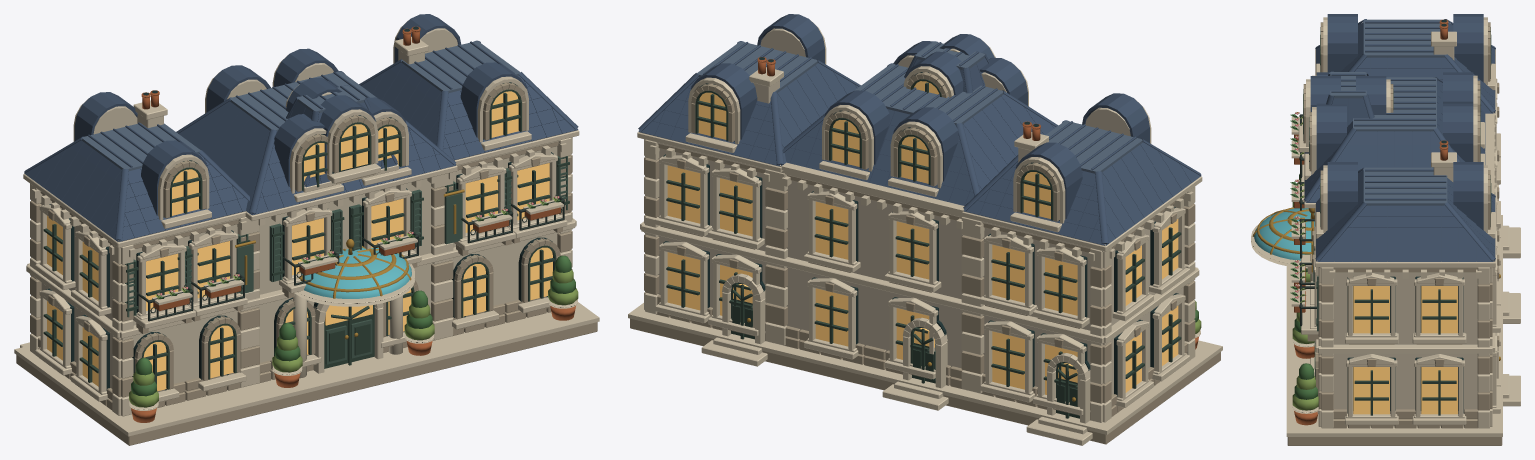
3 views of the same model, side by side, from view 1: azimuth 30°, elevation 25°; view 2: azimuth 150°, elevation 25°; view 3: azimuth 270°, elevation 25° (orthographic). The views are drawn at different scales.
Parts seen in each view (by area): view 1: classic_skyscraper_1_geometry, classic_skyscraper_1_geometry ceramic; view 2: classic_skyscraper_1_geometry, classic_skyscraper_1_geometry ceramic; view 3: classic_skyscraper_1_geometry, classic_skyscraper_1_geometry ceramic.
Boxes of the visible parts, x1,y1,x2,y2 form: classic_skyscraper_1_geometry: [14, 20, 599, 445]; classic_skyscraper_1_geometry ceramic: [24, 14, 578, 241]; classic_skyscraper_1_geometry: [628, 21, 1222, 445]; classic_skyscraper_1_geometry ceramic: [638, 14, 1201, 245]; classic_skyscraper_1_geometry: [1251, 17, 1520, 445]; classic_skyscraper_1_geometry ceramic: [1303, 14, 1495, 261].
Bounding box in the file's own units: 1.72 × 0.9543 × 0.9008.
